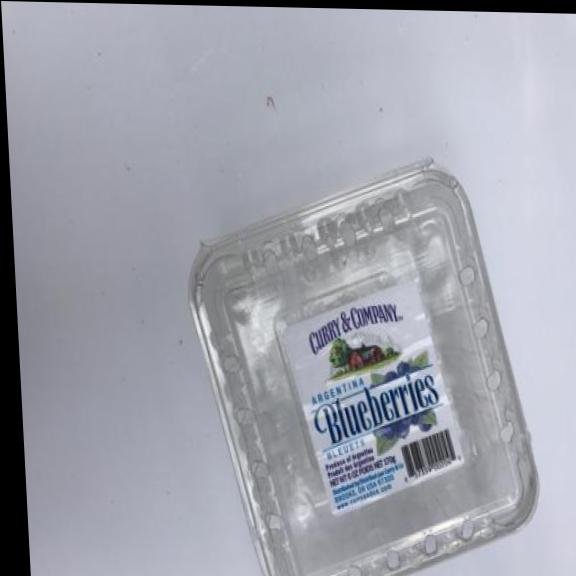Plastik: (178, 150, 546, 576)
